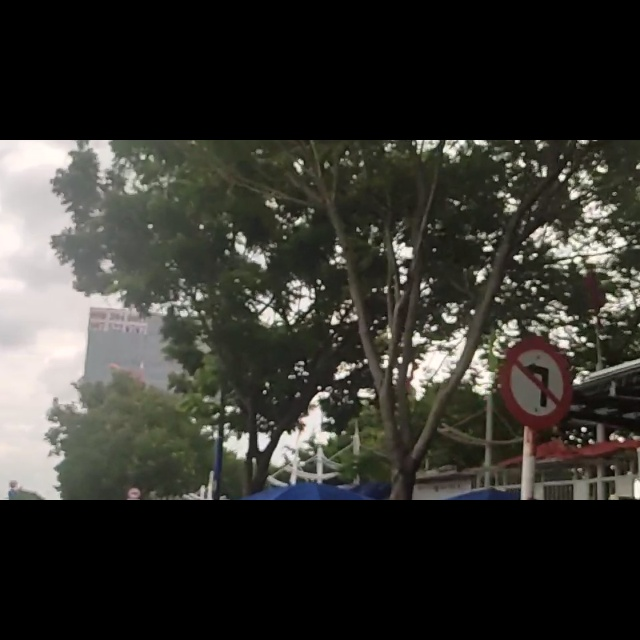bien_cam: (499, 350, 572, 507)
